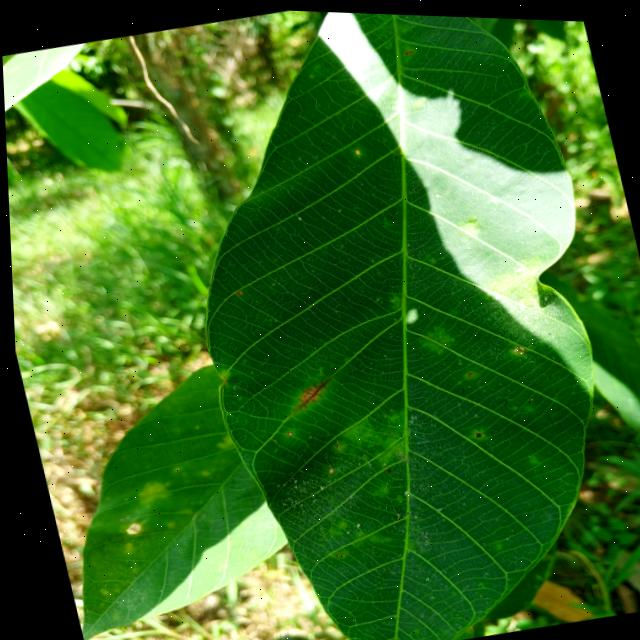Colletotrichum: (509, 341, 523, 351), (469, 427, 480, 436), (324, 464, 331, 472), (353, 146, 360, 153), (282, 429, 289, 434), (234, 289, 241, 294)
Corynespora: (284, 372, 335, 412)
